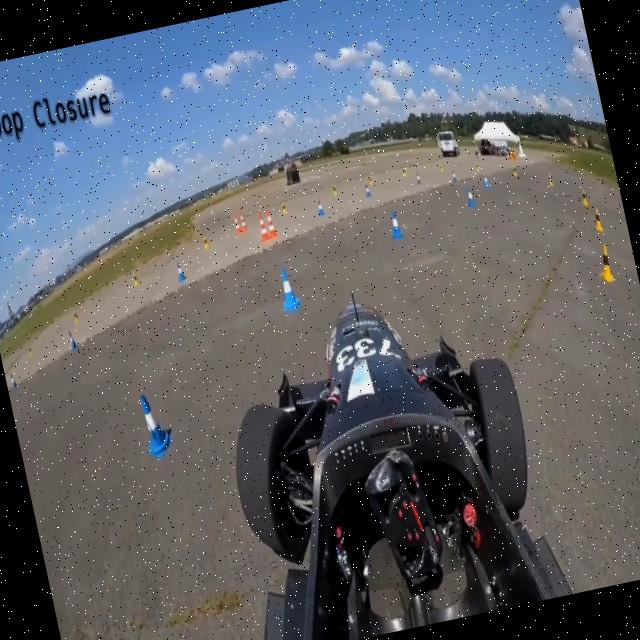blue_cone: (134, 387, 177, 460), (274, 264, 302, 314), (386, 208, 404, 240), (174, 259, 188, 283), (464, 184, 478, 208), (315, 196, 325, 216)
large_orange_cone: (262, 205, 278, 239), (254, 210, 270, 242)
yellow_cone: (592, 242, 616, 284), (590, 204, 605, 232), (578, 186, 589, 208)
